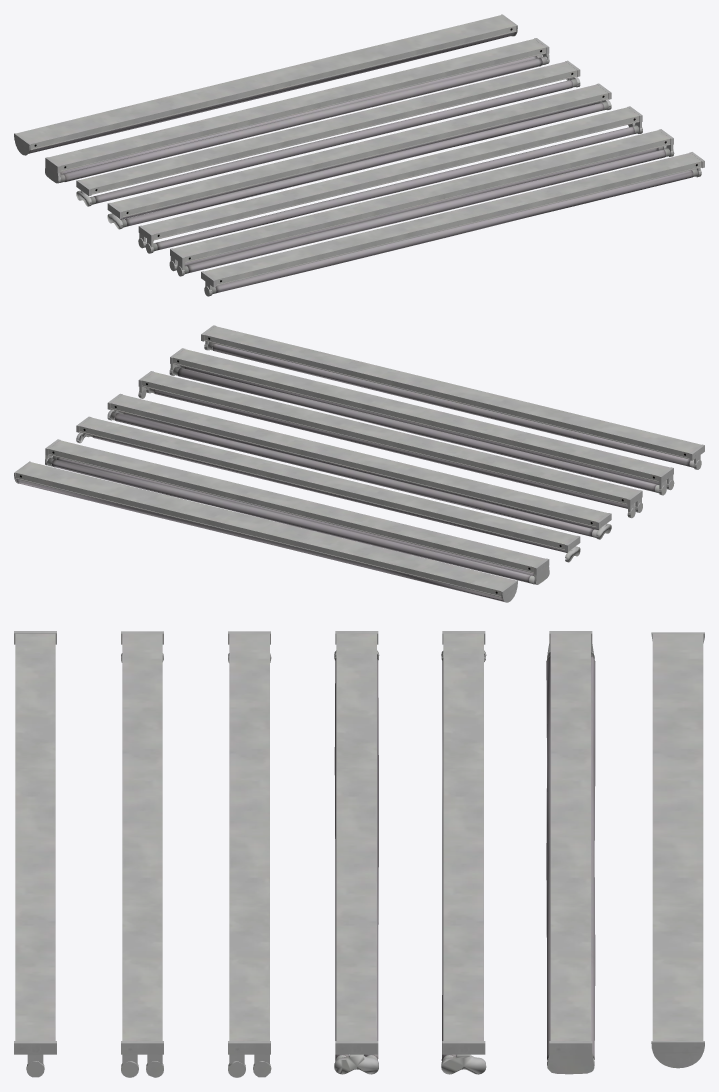
Rendered from mounted_fluorescent_lights.glb.
3 views of the same model, one above another, from view 1: azimuth 30°, elevation 25°; view 2: azimuth 150°, elevation 25°; view 3: azimuth 270°, elevation 25° (orthographic). The views are drawn at different scales.
Parts seen in each view (by area): view 1: mounted_fluorescent_lights_f, mounted_fluorescent_lights_b, mounted_fluorescent_lights_d, mounted_fluorescent_lights_e, mounted_fluorescent_lights_c, mounted_fluorescent_lights_a, mounted_fluorescent_lights_g; view 2: mounted_fluorescent_lights_f, mounted_fluorescent_lights_b, mounted_fluorescent_lights_d, mounted_fluorescent_lights_a, mounted_fluorescent_lights_g, mounted_fluorescent_lights_c, mounted_fluorescent_lights_e; view 3: mounted_fluorescent_lights_g, mounted_fluorescent_lights_f, mounted_fluorescent_lights_d, mounted_fluorescent_lights_e, mounted_fluorescent_lights_c, mounted_fluorescent_lights_b, mounted_fluorescent_lights_a.
Boxes of the visible parts, left/top/right/bottom form: mounted_fluorescent_lights_f: left=45, top=38, right=549, bottom=183; mounted_fluorescent_lights_b: left=169, top=129, right=674, bottom=276; mounted_fluorescent_lights_d: left=107, top=83, right=611, bottom=229; mounted_fluorescent_lights_e: left=76, top=60, right=580, bottom=206; mounted_fluorescent_lights_c: left=138, top=106, right=642, bottom=253; mounted_fluorescent_lights_a: left=201, top=152, right=704, bottom=296; mounted_fluorescent_lights_g: left=14, top=14, right=517, bottom=155; mounted_fluorescent_lights_f: left=45, top=439, right=549, bottom=584; mounted_fluorescent_lights_b: left=169, top=348, right=674, bottom=495; mounted_fluorescent_lights_d: left=107, top=393, right=611, bottom=539; mounted_fluorescent_lights_a: left=201, top=325, right=704, bottom=469; mounted_fluorescent_lights_g: left=14, top=461, right=517, bottom=602; mounted_fluorescent_lights_c: left=138, top=371, right=642, bottom=518; mounted_fluorescent_lights_e: left=76, top=416, right=580, bottom=562; mounted_fluorescent_lights_g: left=651, top=632, right=704, bottom=1068; mounted_fluorescent_lights_f: left=546, top=631, right=595, bottom=1074; mounted_fluorescent_lights_d: left=334, top=631, right=379, bottom=1074; mounted_fluorescent_lights_e: left=441, top=631, right=486, bottom=1074; mounted_fluorescent_lights_c: left=228, top=631, right=271, bottom=1077; mounted_fluorescent_lights_b: left=121, top=631, right=163, bottom=1077; mounted_fluorescent_lights_a: left=14, top=631, right=56, bottom=1077.
Bounding box in the file's own units: 0.9122 × 0.0354 × 0.6454.
Materials: 2 (2 with a texture image).
